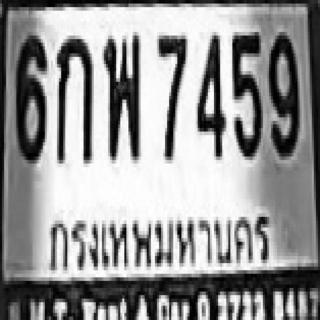A01: (55, 32, 92, 160)
A30: (102, 32, 139, 156)
N04: (194, 28, 224, 156)
N05: (230, 28, 261, 156)
N06: (14, 32, 45, 160)
N07: (155, 32, 185, 156)
N09: (267, 28, 298, 153)
P04: (39, 200, 284, 278)
